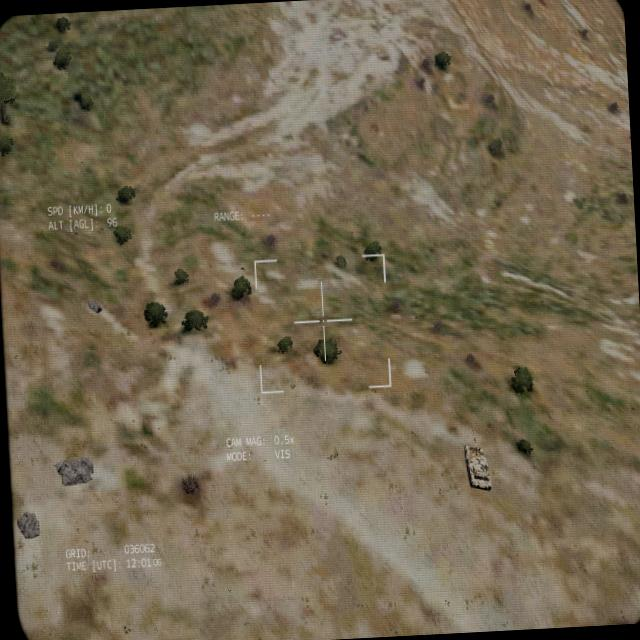tank: (460, 424, 492, 494)
